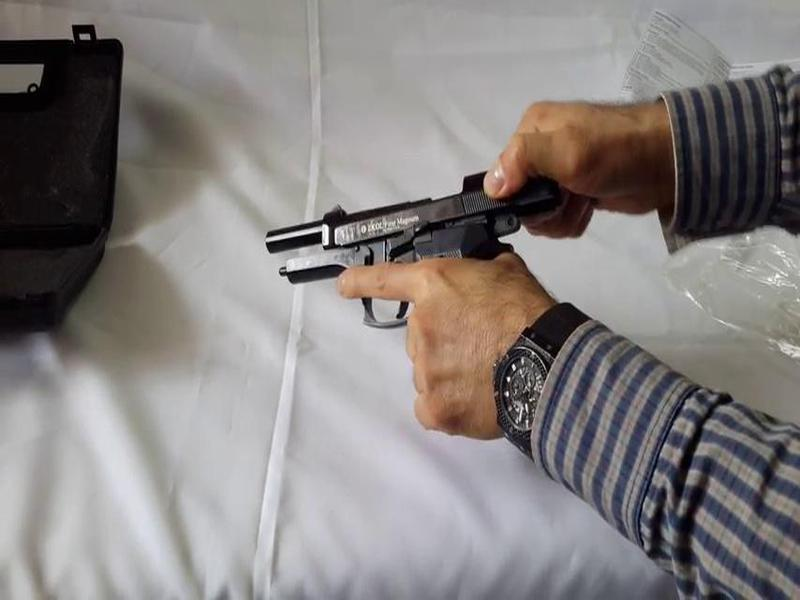Pistola: (258, 170, 546, 359)
